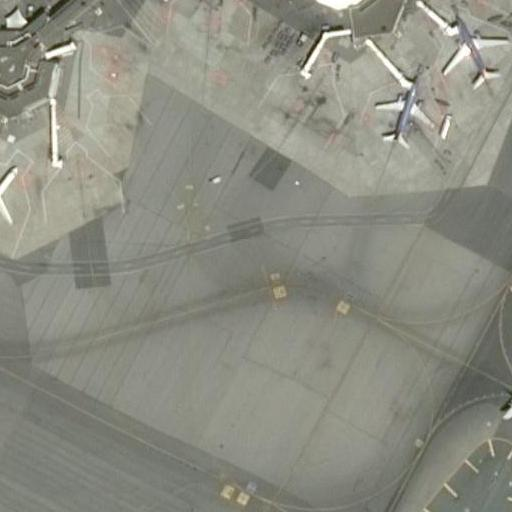Aircraft: (436, 5, 510, 89), (368, 71, 432, 149), (495, 349, 512, 477), (0, 161, 25, 240), (462, 0, 512, 1)
